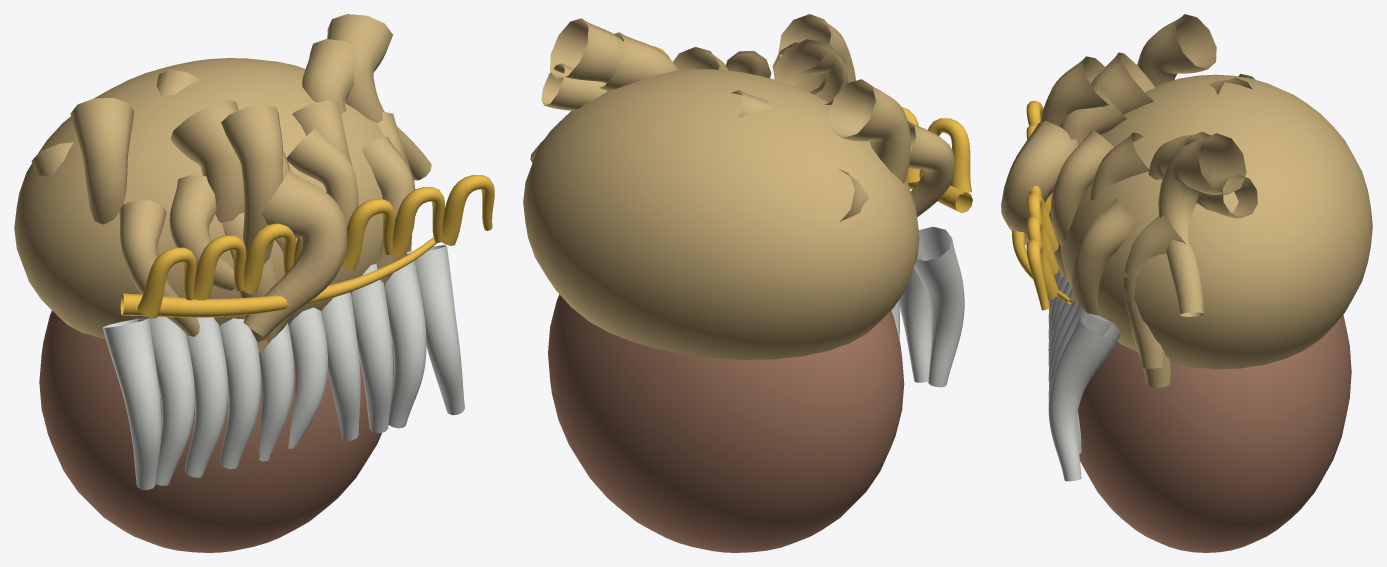
File: couronne.glb
3 views of the same model, side by side, from view 1: azimuth 30°, elevation 25°; view 2: azimuth 150°, elevation 25°; view 3: azimuth 270°, elevation 25° (orthographic). The views are drawn at different scales.
Parts seen in each view (by area): view 1: Tête, Coiffure, Mèche dorée.010, Pointe claire, Mèche dorée.008, Mèche dorée.019, Pointe claire.001, Pointe claire.009, Pointe claire.008, Mèche dorée.009, Pointe claire.002, Pointe claire.007 (+22 smaller); view 2: Coiffure, Tête, Pointe claire, Mèche dorée.008, Mèche dorée.020, Mèche dorée.001, Mèche dorée.009, Pointe claire.001, Mèche dorée.019, Mèche dorée.014, Mèche dorée.017, Couronne (+3 smaller); view 3: Coiffure, Tête, Mèche dorée.020, Pointe claire.009, Mèche dorée.010, Mèche dorée.008, Mèche dorée.005, Mèche dorée.006, Mèche dorée.013, Mèche dorée.019, Mèche dorée.009, Mèche dorée.004 (+10 smaller).
Part boxes in pixels (bbox=[...]): Tête: bbox=[39, 311, 393, 552]; Coiffure: bbox=[14, 58, 411, 339]; Mèche dorée.010: bbox=[243, 169, 346, 337]; Pointe claire: bbox=[102, 318, 161, 489]; Mèche dorée.008: bbox=[70, 98, 133, 224]; Mèche dorée.019: bbox=[221, 104, 282, 264]; Pointe claire.001: bbox=[136, 316, 194, 485]; Pointe claire.009: bbox=[406, 245, 464, 415]; Pointe claire.008: bbox=[384, 253, 426, 428]; Mèche dorée.009: bbox=[170, 100, 244, 222]; Pointe claire.002: bbox=[184, 317, 227, 477]; Pointe claire.007: bbox=[351, 263, 393, 433]; Coiffure: bbox=[523, 69, 919, 359]; Tête: bbox=[548, 294, 904, 552]; Pointe claire: bbox=[914, 226, 964, 387]; Mèche dorée.008: bbox=[828, 79, 910, 183]; Mèche dorée.020: bbox=[530, 18, 623, 162]; Mèche dorée.001: bbox=[907, 120, 954, 216]; Mèche dorée.009: bbox=[773, 39, 848, 104]; Pointe claire.001: bbox=[898, 231, 932, 382]; Mèche dorée.019: bbox=[778, 14, 855, 82]; Mèche dorée.014: bbox=[599, 32, 678, 90]; Mèche dorée.017: bbox=[541, 63, 607, 110]; Couronne: bbox=[919, 118, 971, 194]; Coiffure: bbox=[1060, 74, 1372, 369]; Tête: bbox=[1078, 315, 1351, 552]; Mèche dorée.020: bbox=[1158, 133, 1246, 316]; Pointe claire.009: bbox=[1048, 313, 1120, 481]; Mèche dorée.010: bbox=[1001, 121, 1077, 244]; Mèche dorée.008: bbox=[1137, 14, 1216, 86]; Mèche dorée.005: bbox=[1071, 198, 1138, 315]; Mèche dorée.006: bbox=[1123, 214, 1185, 368]; Mèche dorée.013: bbox=[1051, 130, 1113, 246]; Mèche dorée.019: bbox=[1040, 56, 1118, 126]; Mèche dorée.009: bbox=[1090, 52, 1154, 114]; Mèche dorée.004: bbox=[1090, 132, 1149, 199].
Bounding box in the file's own units: 1.4 × 1.7 × 1.23.
